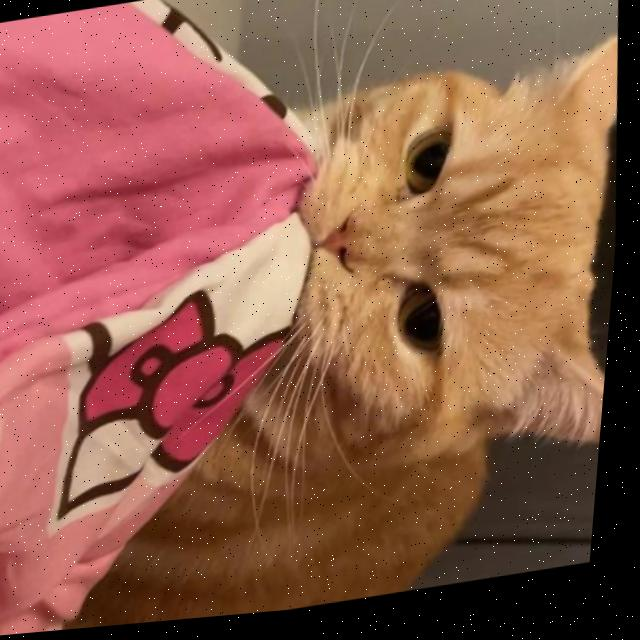Cats: (240, 41, 634, 544)
